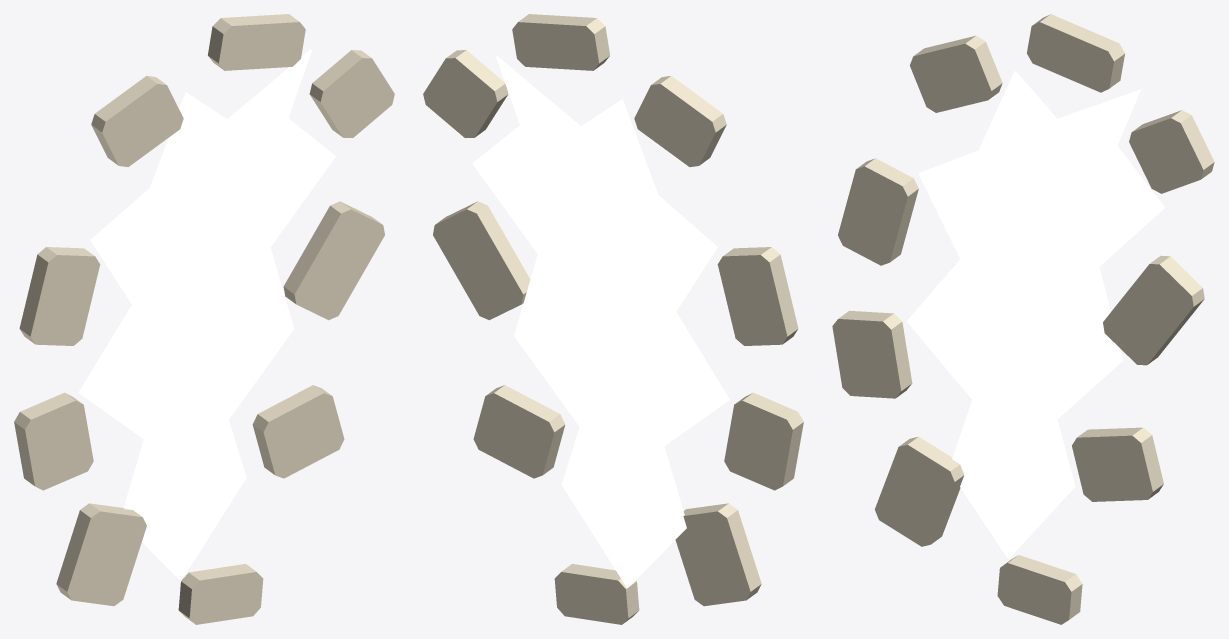
The model's file is b1_crack.glb.
3 renders of one model, left to right at view 1: azimuth 30°, elevation 25°; view 2: azimuth 150°, elevation 25°; view 3: azimuth 330°, elevation 25°, orthographic.
Parts seen in each view (by area): view 1: b1_crack; view 2: b1_crack; view 3: b1_crack.
Part boxes in pixels (box(x1,y1,x2,y2)): b1_crack: box(14, 14, 394, 624); b1_crack: box(423, 14, 803, 624); b1_crack: box(832, 14, 1214, 624).
Bounding box in the file's own units: 3.1 × 4.77 × 0.16.
